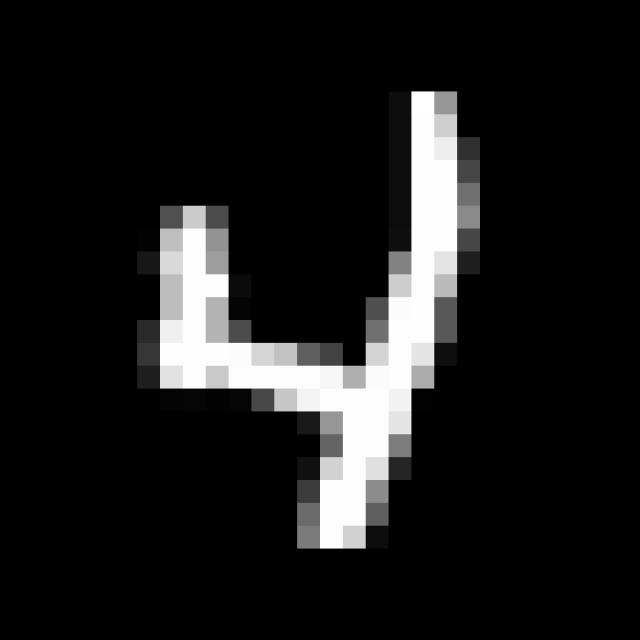four -4-: (123, 71, 506, 572)
